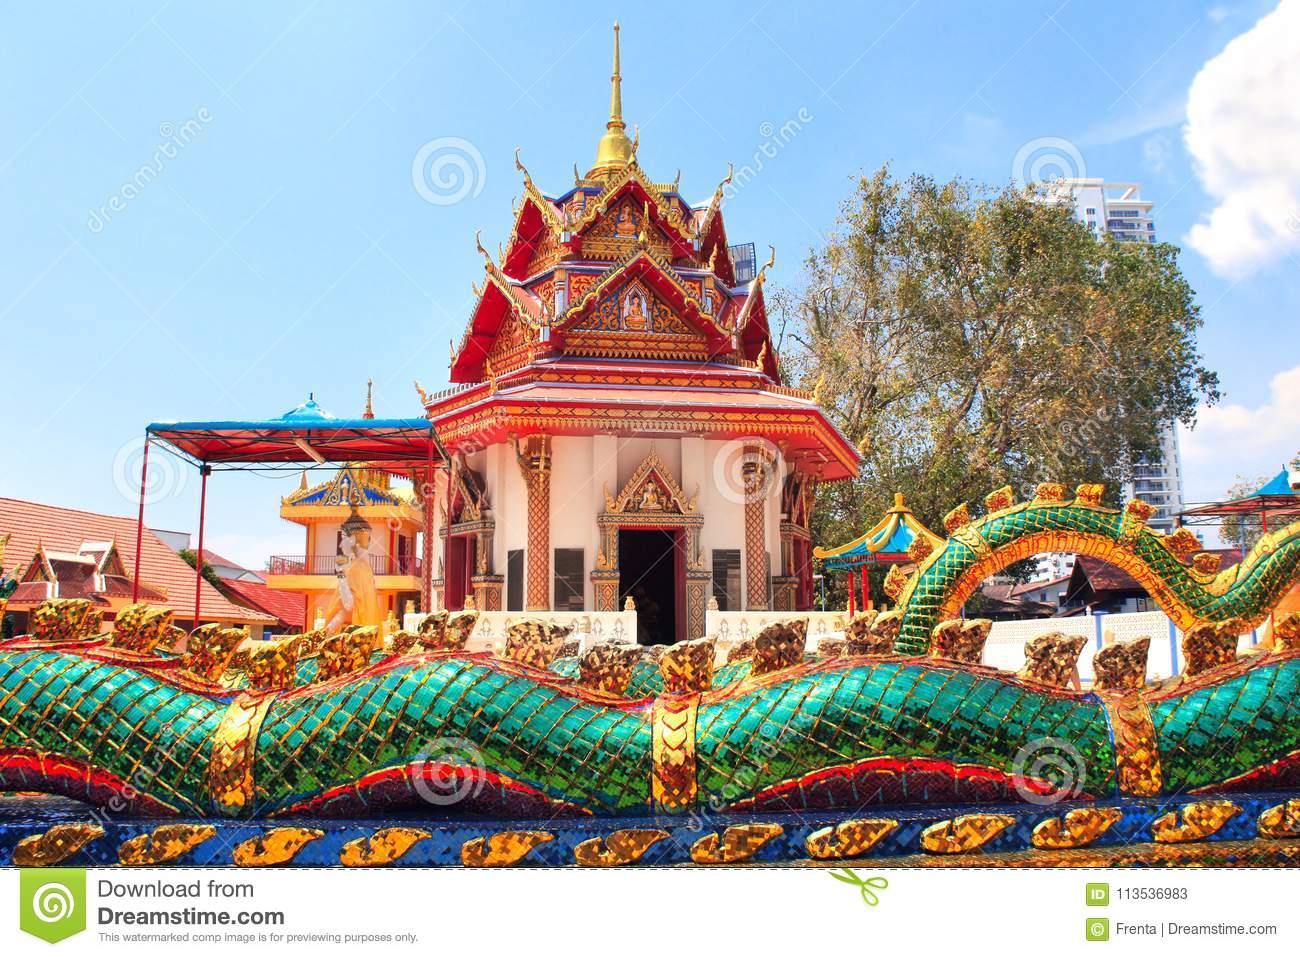Buddhist Temple: (386, 30, 845, 619)
